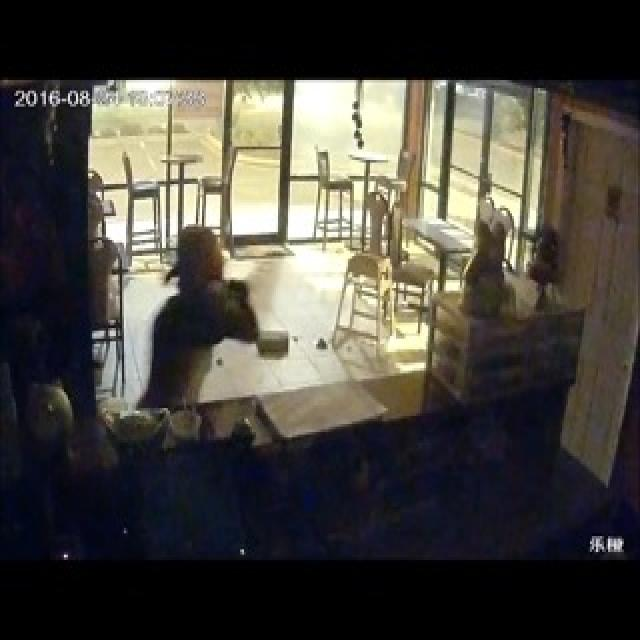thief: (133, 211, 282, 378)
